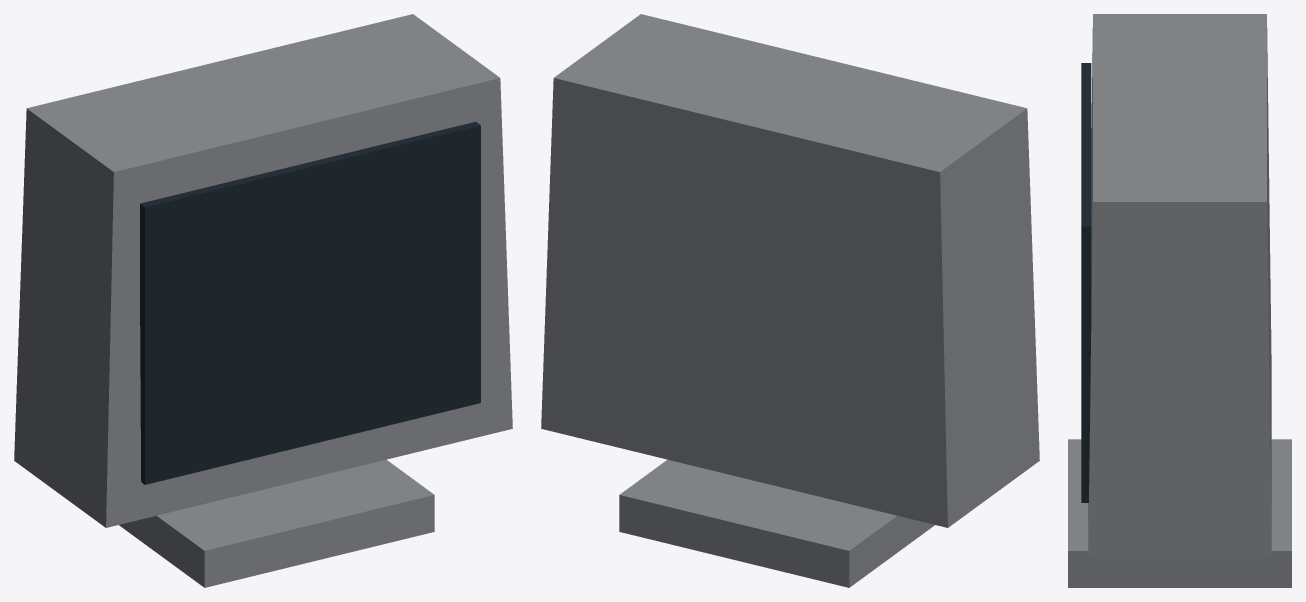
The model's file is GD_Monitor_01.glb.
3 renders of one model, left to right at view 1: azimuth 30°, elevation 25°; view 2: azimuth 150°, elevation 25°; view 3: azimuth 270°, elevation 25°, orthographic.
Parts seen in each view (by area): view 1: GD_Monitor_01; view 2: GD_Monitor_01; view 3: GD_Monitor_01.
Boxes of the visible parts, x1=… form: GD_Monitor_01: x1=14, y1=14, x2=512, y2=587; GD_Monitor_01: x1=541, y1=14, x2=1039, y2=587; GD_Monitor_01: x1=1068, y1=14, x2=1291, y2=587.
Size of the model in its own units: 0.46 by 0.46 by 0.22.
1 material, 1 textured.
